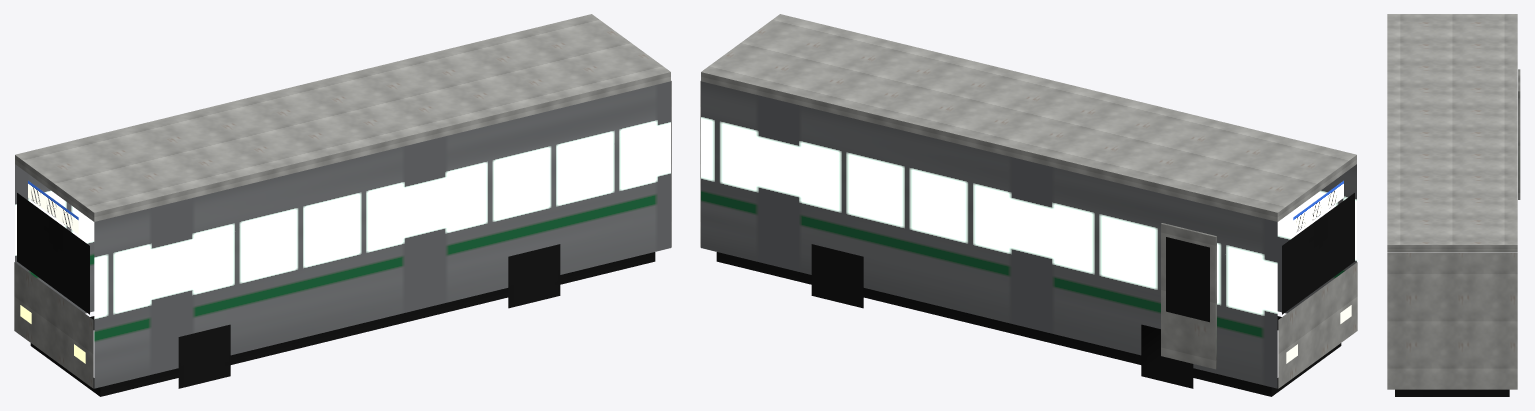
Rendered from bus.glb.
3 views of the same model, side by side, from view 1: azimuth 30°, elevation 25°; view 2: azimuth 150°, elevation 25°; view 3: azimuth 270°, elevation 25° (orthographic). The views are drawn at different scales.
Visible parts, largest first — view 1: bus; view 2: bus, bus_door; view 3: bus, bus_door.
Part boxes in pixels (<box>): bus: <box>14,14,671,396</box>; bus: <box>700,14,1357,396</box>; bus_door: <box>1161,223,1216,369</box>; bus: <box>1387,14,1517,396</box>; bus_door: <box>1518,69,1520,199</box>.
Bounding box in the file's own units: 10.54 × 3.41 × 2.58.
Materials: 5 (5 with a texture image).
